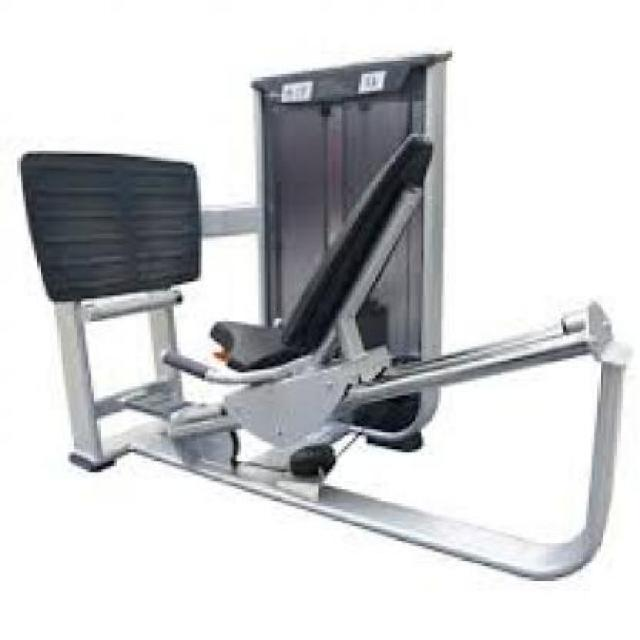leg press: (7, 48, 640, 597)
